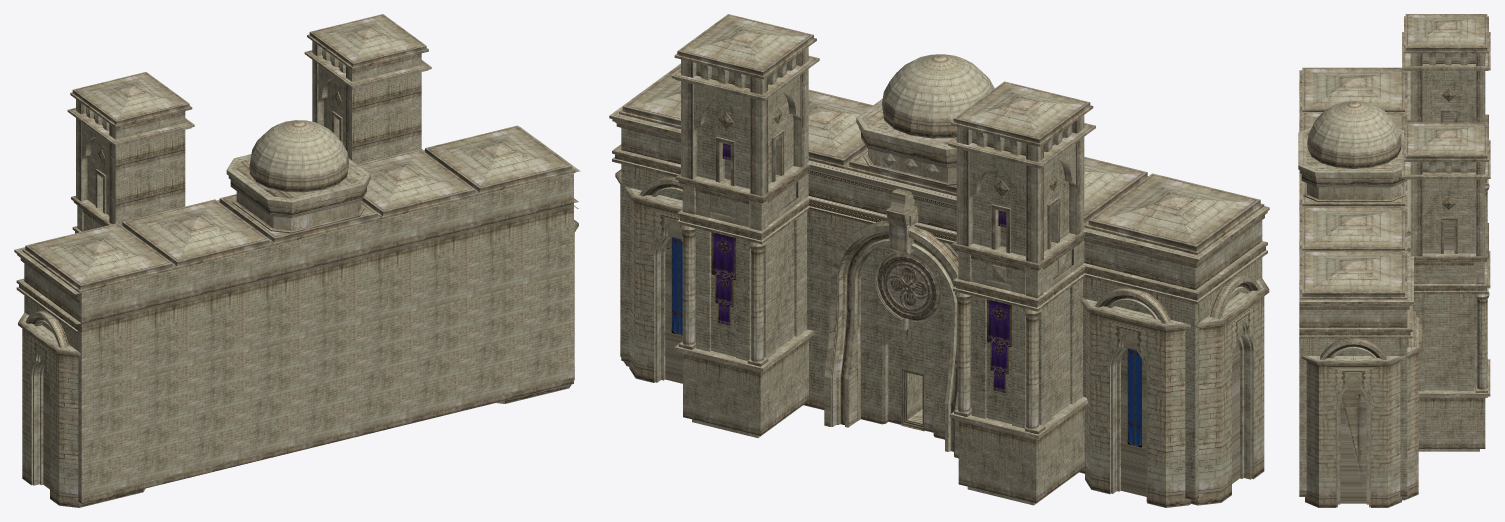
The model's file is TW2_5_MAGEGUILD_01-transformed.glb.
The picture shows the model from 3 angles, left to right: view 1: azimuth 30°, elevation 25°; view 2: azimuth 150°, elevation 25°; view 3: azimuth 270°, elevation 25°; orthographic projection. The views are drawn at different scales.
Parts seen in each view (by area): view 1: default; view 2: default; view 3: default.
Part boxes in pixels (x1,y1,x2,y2): default: (14, 14, 580, 507); default: (609, 14, 1269, 507); default: (1298, 14, 1490, 507).
Bounding box in the file's own units: 33.47 × 20.37 × 11.35.
Materials: 5 (5 with a texture image).
